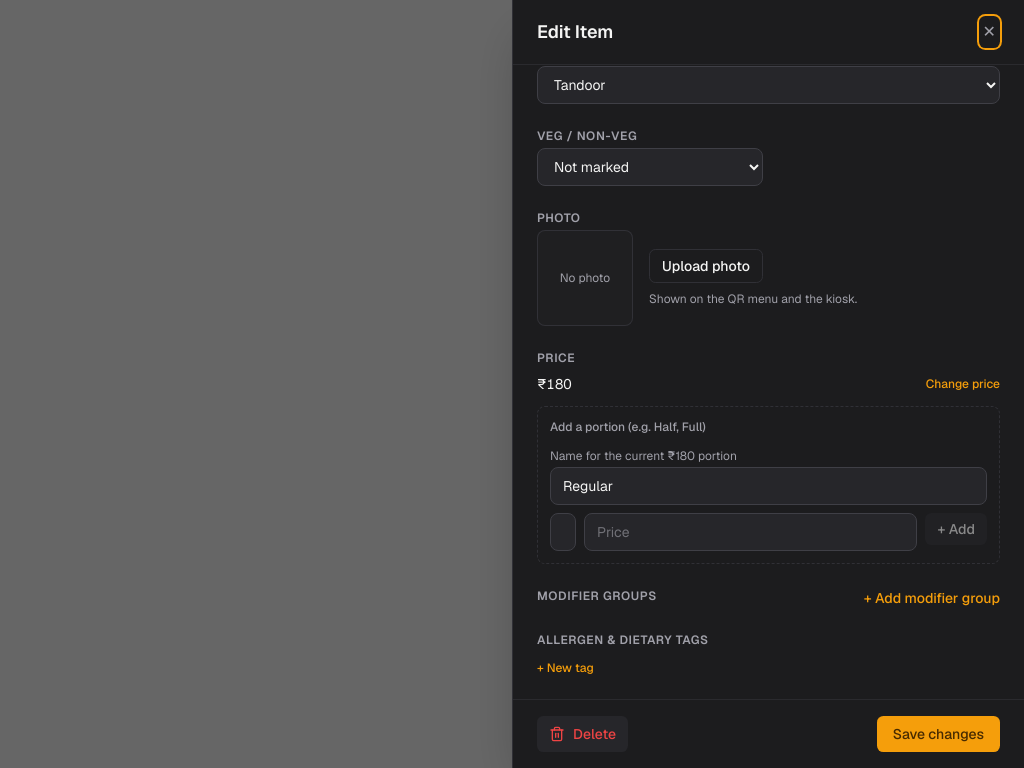
ItemDrawer modifier group validation messaging › flags a maximum greater than the number of options with a specific message
(page scrolled)
Click the button with test id "item-add-modifier-group". click: (932, 598)
box: [864, 588, 1000, 608]
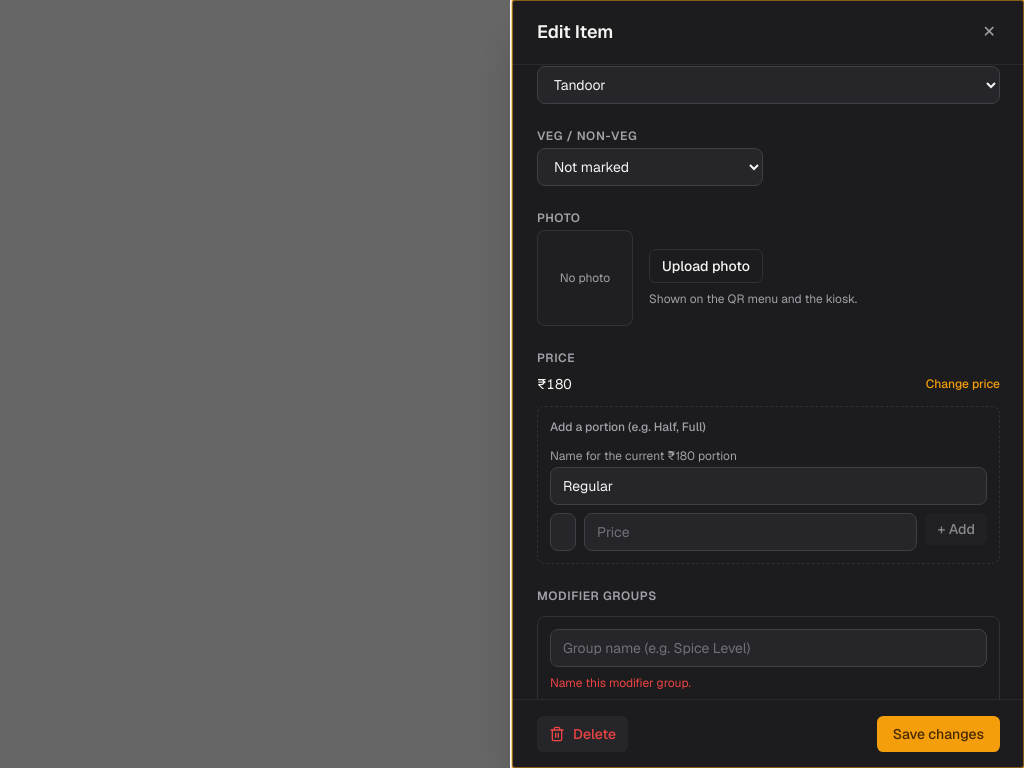
Type "Add-ons" into the field with test id "new-modifier-group-name". click: (768, 648)
box: [550, 629, 987, 667]
(page scrolled)
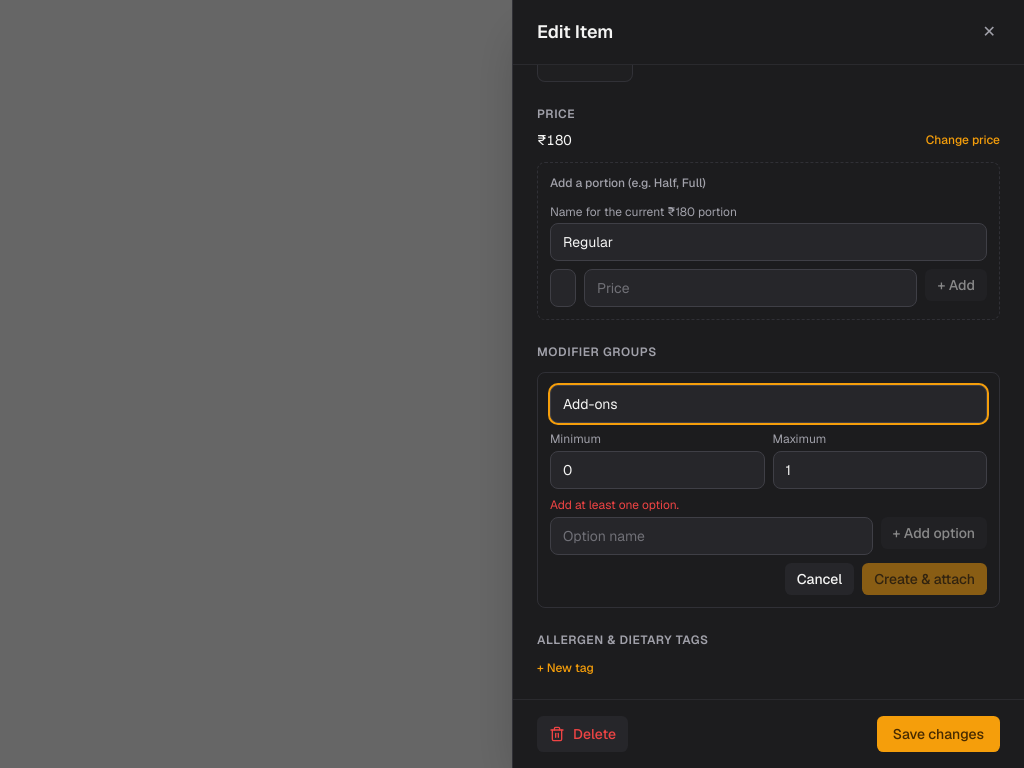
Type "Extra cheese" into the field with test id "new-modifier-group-option-name". click: (711, 536)
box: [550, 517, 872, 555]
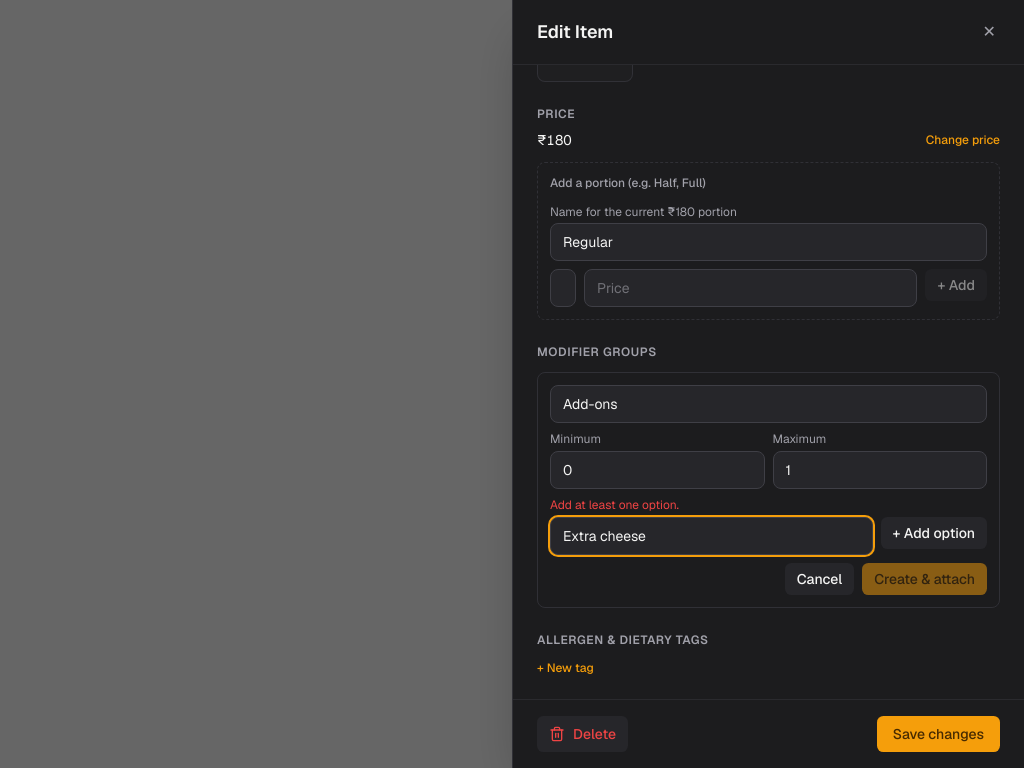
Click the button with test id "new-modifier-group-add-option". click: (934, 533)
box: [880, 517, 987, 549]
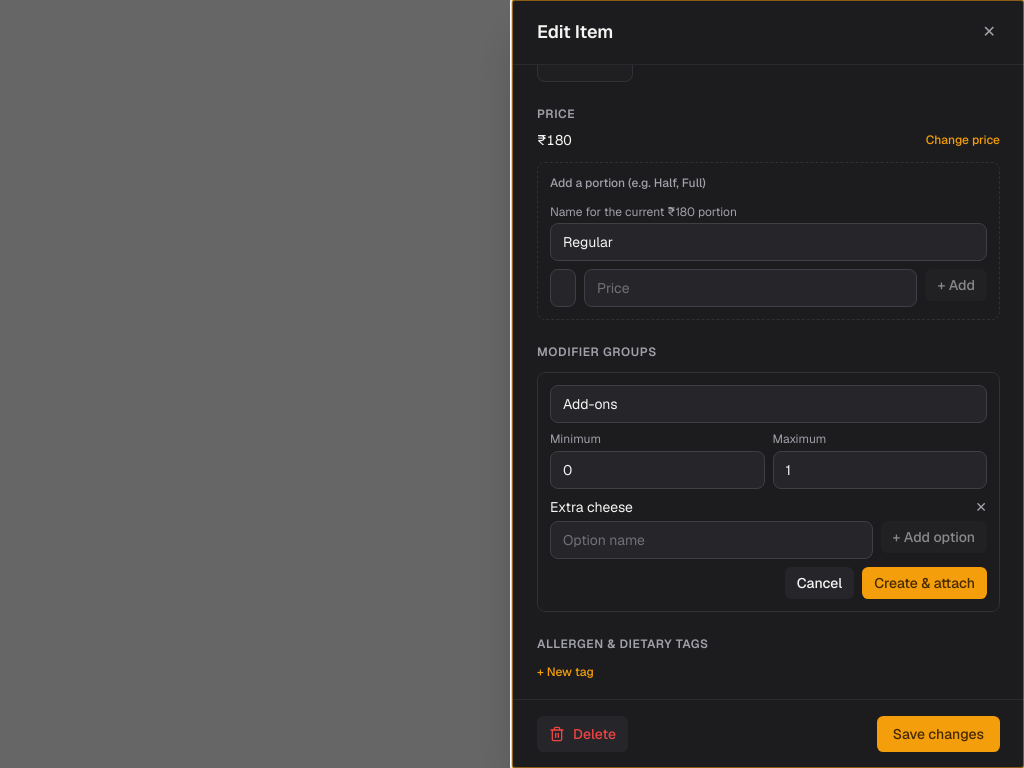
Replace the text in the number field with test id "new-modifier-group-max" with "3". click: (880, 470)
box: [772, 451, 987, 489]
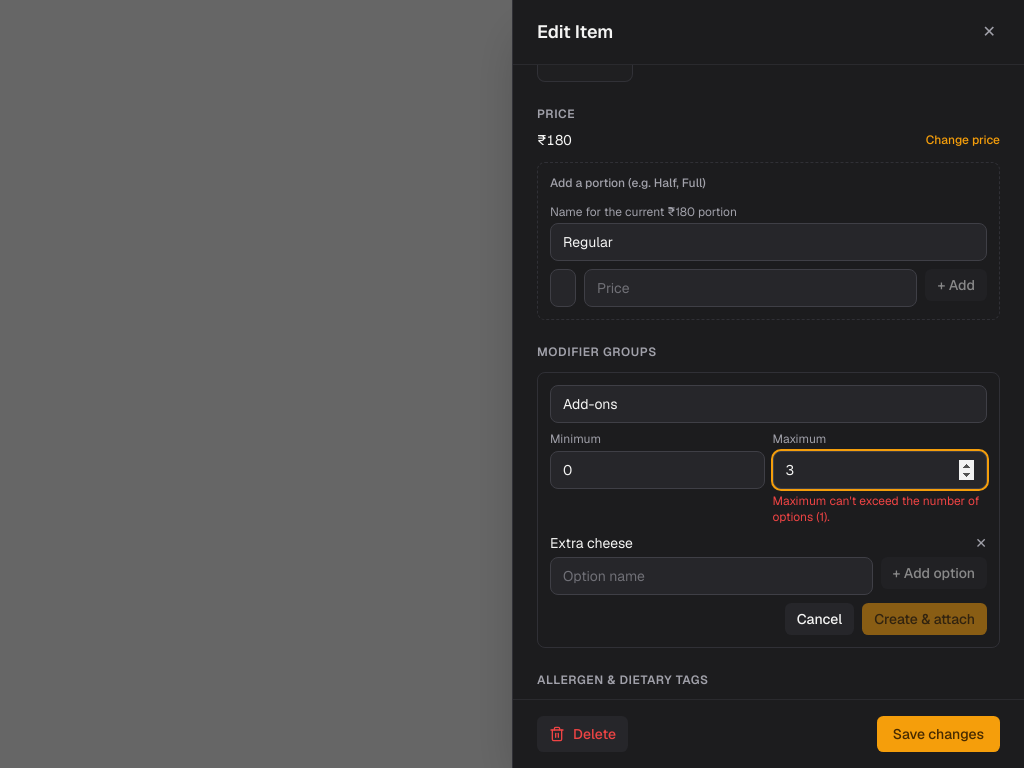
Expected: the text with test id "new-modifier-group-max-error" reads "Maximum can't exceed the number of options (1).", [772, 493, 979, 525]
